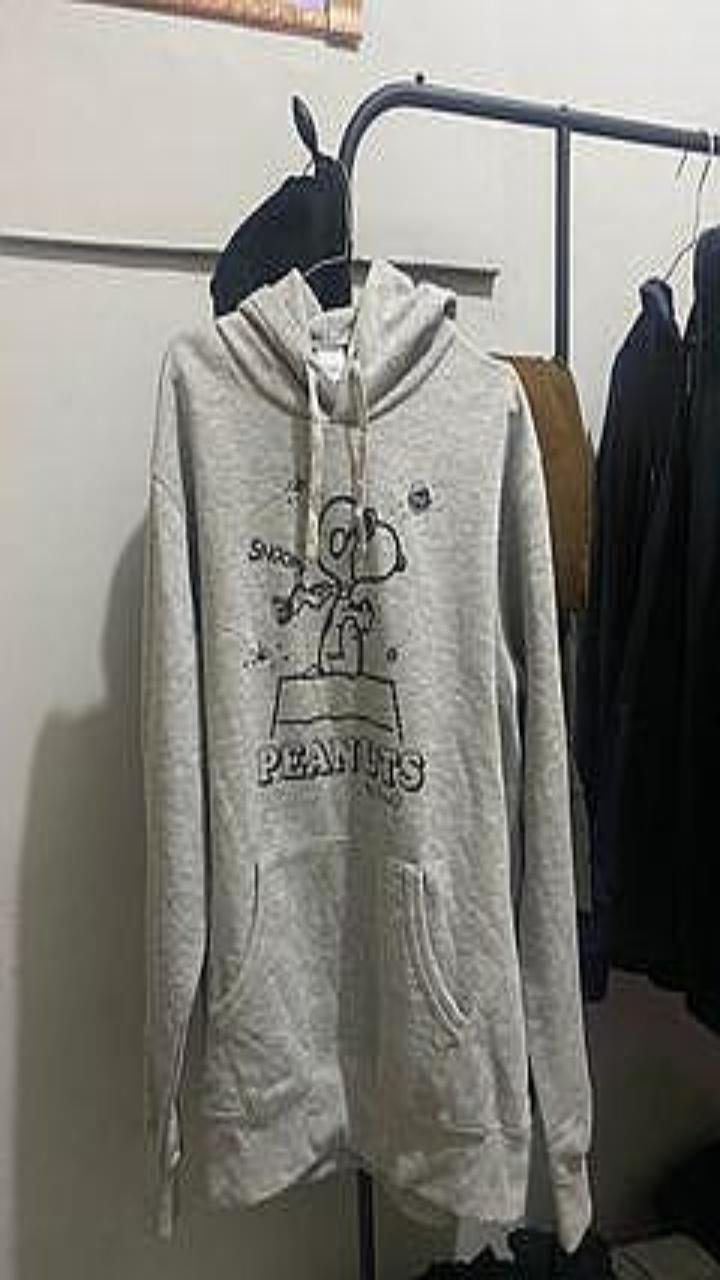Hoodie: (142, 262, 590, 1247)
